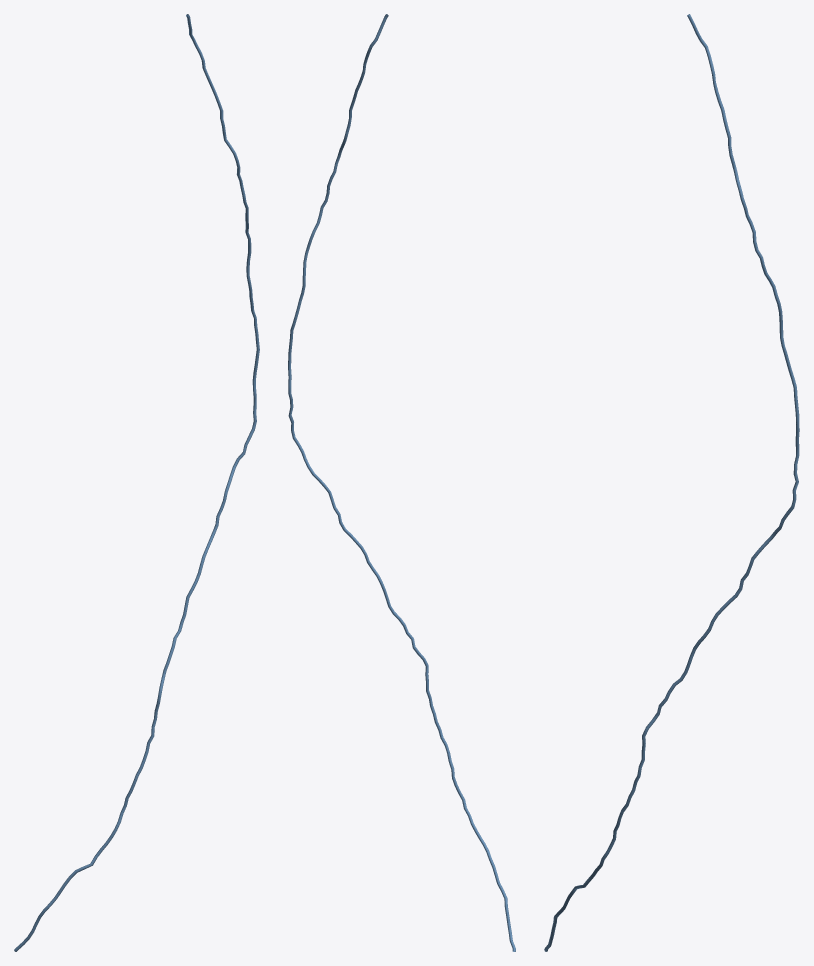
Rendered from sweep90.fbx.
3 renders of one model, left to right at view 1: azimuth 30°, elevation 25°; view 2: azimuth 150°, elevation 25°; view 3: azimuth 330°, elevation 25°, orthographic. The views are drawn at different scales.
Parts seen in each view (by area): view 1: sweep90; view 2: sweep90; view 3: sweep90.
Boxes of the visible parts, box(x1,y1,x2,y2) form: sweep90: box(14, 14, 259, 951); sweep90: box(288, 14, 515, 951); sweep90: box(544, 14, 799, 951).
Bounding box in the file's own units: 1.68 × 6.13 × 0.3484.
